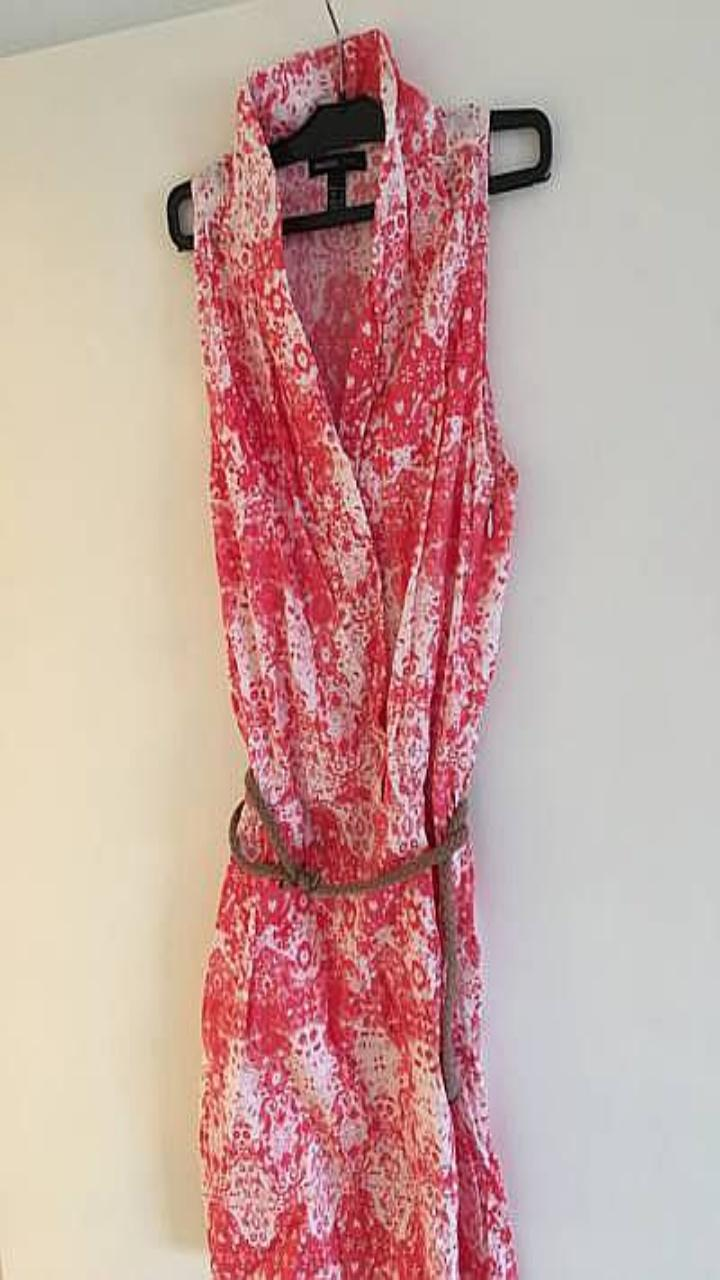Dresses: (193, 29, 517, 879)
